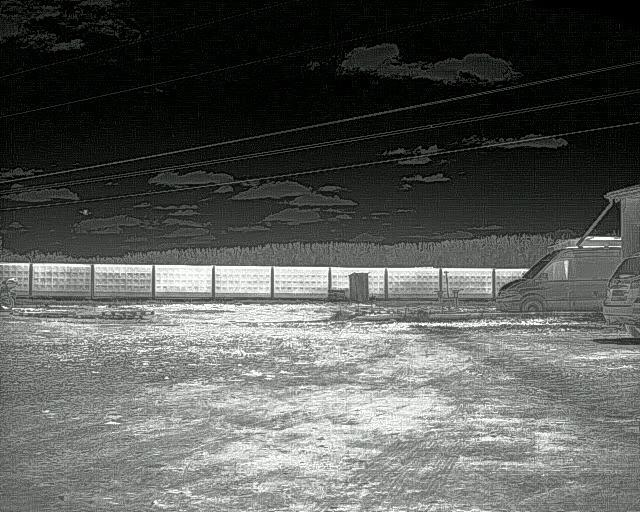ufo-thermal: (77, 207, 95, 217)
